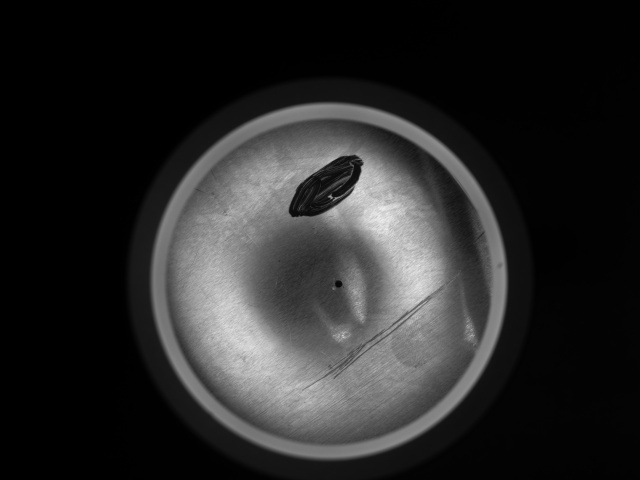ca_shang: (293, 261, 468, 396)
zang_wu: (283, 149, 367, 224)
zhen_kong: (330, 278, 344, 291)
